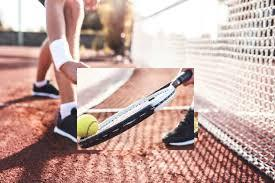tennis ball: (171, 113, 198, 140)
tennis racket: (77, 68, 194, 150)
